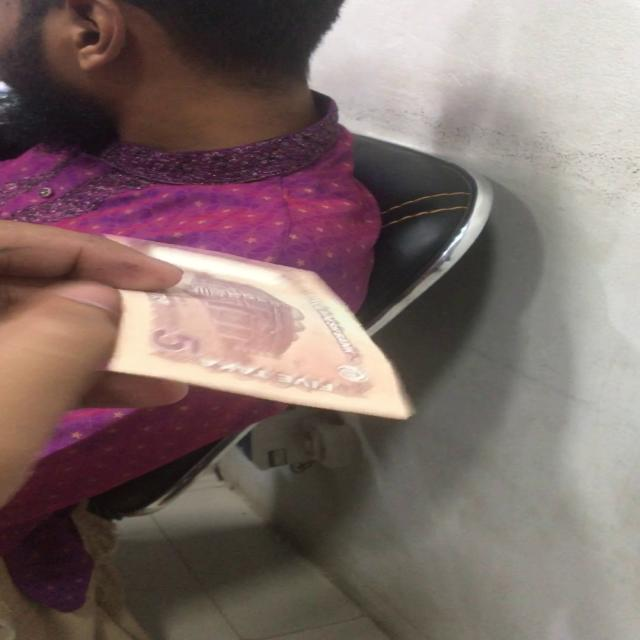Taka: (98, 229, 430, 429)
